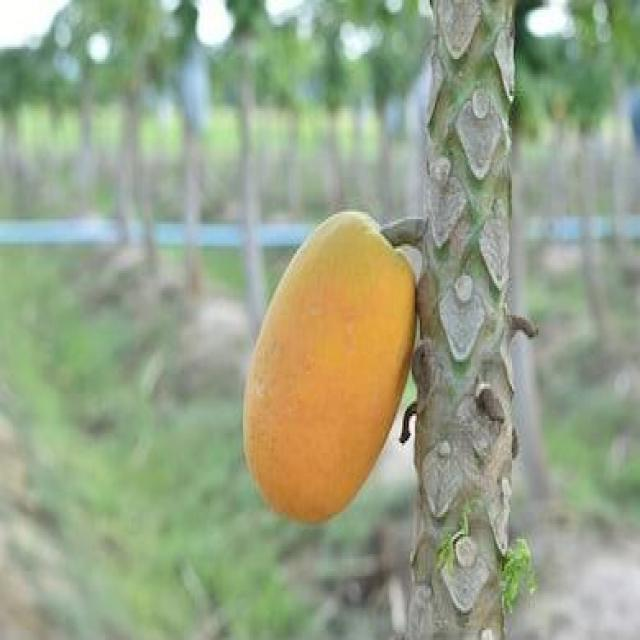Pepaya rippen: (242, 205, 421, 535)
